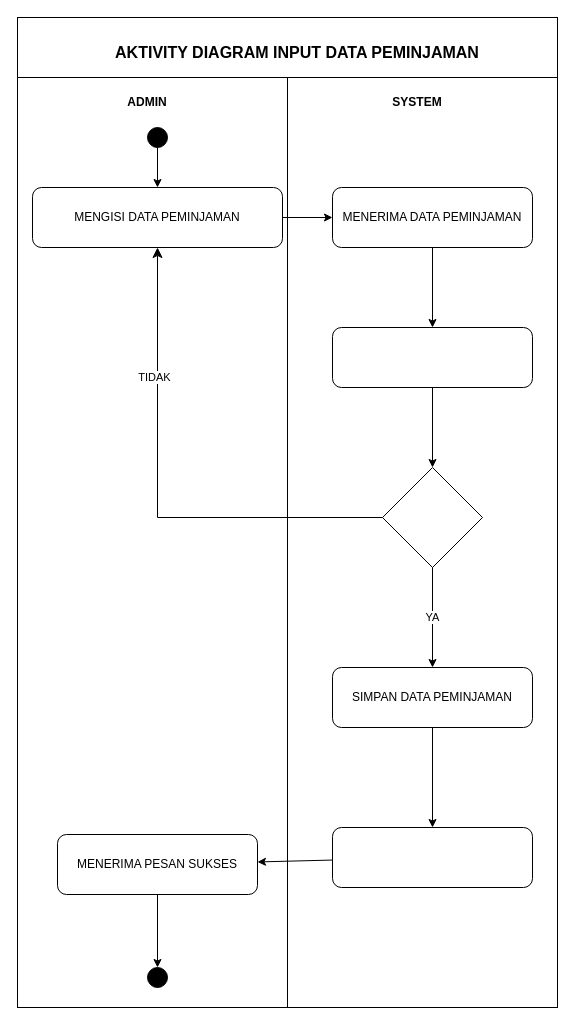
The diagram is 575 pixels wide and 1025 high, and some of its shapes have lost their labels. Each missing label, with the box of its shape:
KIRIM PESAN SUKSES: (332, 826, 532, 888)
MENGECEK DATA APAKAH SUDAH BENAR: (332, 326, 532, 388)
